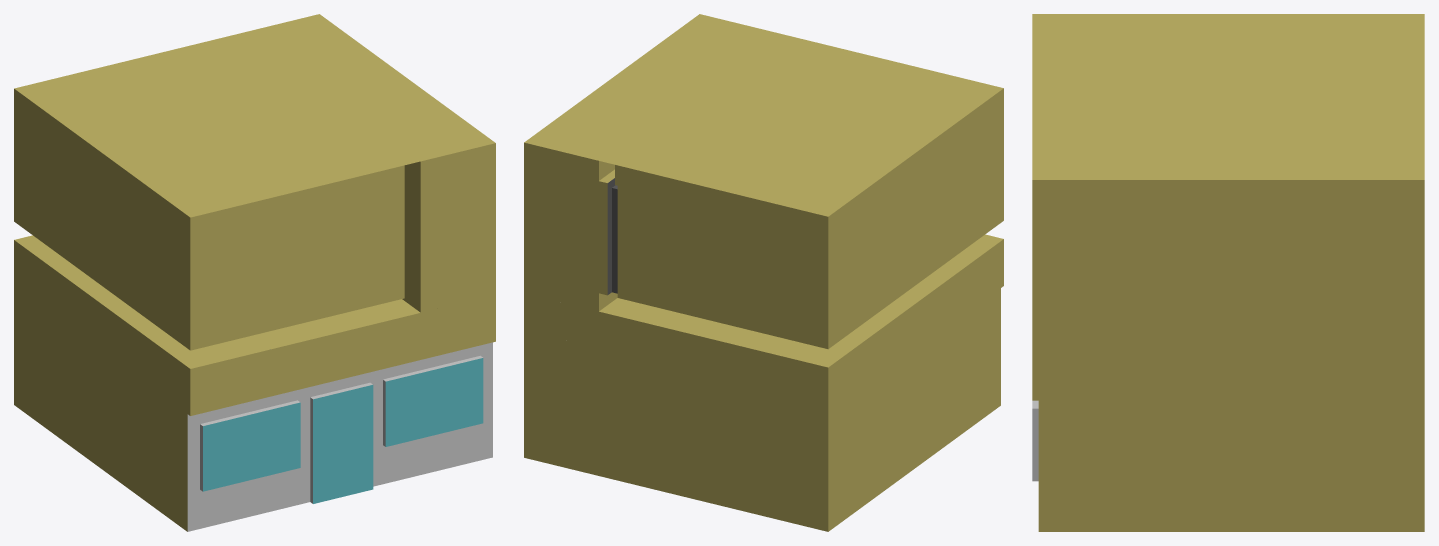
File: SM_LongoInterior.fbx
3 views of the same model, side by side, from view 1: azimuth 30°, elevation 25°; view 2: azimuth 150°, elevation 25°; view 3: azimuth 270°, elevation 25° (orthographic). The views are drawn at different scales.
Parts seen in each view (by area): view 1: Box090, Box092, Plane012; view 2: Box090, Box092, Plane012; view 3: Box090, Box092, Plane012.
Boxes of the visible parts, x1,y1,x2,y2 form: Box090: (14,240,495,531); Box092: (14,89,495,368); Plane012: (14,14,495,217); Box090: (524,239,1003,531); Box092: (524,88,1003,367); Plane012: (524,14,1003,216); Box090: (1032,348,1424,531); Box092: (1032,180,1424,348); Plane012: (1032,14,1424,179).
Size of the model in its own units: 610 by 604 by 610.
